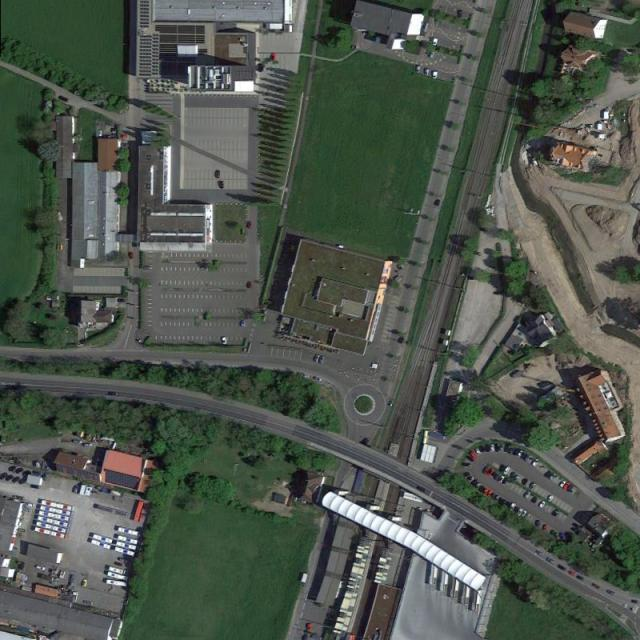vehicle: (11, 475, 21, 484), (503, 466, 512, 476), (543, 470, 553, 479), (546, 557, 556, 566), (538, 500, 547, 510), (58, 95, 69, 103), (534, 549, 545, 557), (516, 507, 524, 518), (18, 476, 27, 485), (469, 450, 478, 459), (482, 465, 491, 474), (549, 472, 557, 482), (557, 564, 567, 572), (470, 478, 478, 488), (523, 512, 531, 522), (510, 470, 518, 480), (488, 467, 496, 477), (312, 375, 323, 382), (513, 447, 520, 458), (318, 356, 326, 365), (8, 465, 17, 473), (5, 474, 14, 482), (523, 490, 531, 499), (474, 481, 482, 490), (478, 485, 486, 494), (531, 458, 539, 467), (563, 482, 571, 491), (592, 582, 601, 590), (467, 475, 475, 484), (530, 496, 538, 505), (552, 509, 560, 518), (512, 506, 520, 515), (498, 474, 506, 483), (606, 589, 616, 596), (510, 502, 517, 512), (35, 565, 46, 571), (547, 494, 555, 502), (528, 482, 536, 490), (22, 470, 31, 477), (466, 455, 475, 462), (474, 446, 481, 455), (508, 447, 515, 456), (499, 464, 506, 473), (491, 491, 498, 500), (559, 480, 566, 489), (568, 570, 577, 577), (576, 575, 585, 582), (417, 486, 426, 493), (521, 510, 528, 519), (494, 472, 501, 481), (432, 70, 438, 80), (505, 444, 511, 454), (463, 472, 473, 478), (542, 524, 548, 534), (15, 467, 23, 474), (478, 445, 485, 453), (517, 450, 524, 458), (487, 490, 494, 498), (494, 494, 501, 502), (524, 454, 531, 462), (567, 485, 574, 493), (514, 474, 521, 482), (306, 623, 312, 632), (314, 354, 320, 363), (521, 451, 527, 460), (560, 533, 566, 542), (127, 251, 133, 260), (143, 266, 153, 271), (536, 520, 541, 530), (482, 488, 489, 495), (245, 282, 252, 289), (302, 634, 310, 640), (416, 66, 422, 74), (522, 478, 528, 486), (502, 477, 508, 485), (74, 485, 79, 494), (82, 579, 87, 588), (425, 68, 430, 77), (108, 392, 119, 396), (258, 65, 263, 73), (241, 321, 246, 329), (222, 338, 227, 346), (433, 38, 438, 46), (485, 445, 490, 453), (490, 444, 495, 452), (271, 54, 276, 62), (246, 221, 251, 229), (462, 463, 471, 467), (500, 445, 505, 452), (631, 599, 638, 604), (262, 63, 266, 71), (220, 181, 224, 189), (430, 51, 434, 59), (495, 444, 499, 452), (551, 530, 555, 538), (216, 171, 220, 178), (556, 533, 560, 540)
